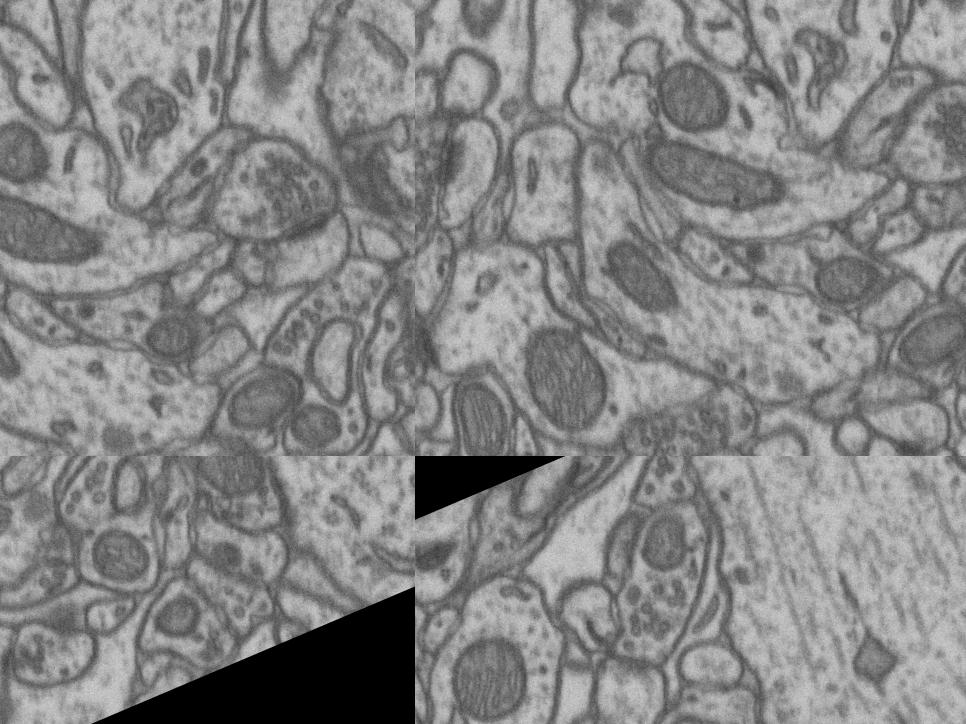mitochondria: (634, 97, 798, 252), (500, 305, 626, 449), (0, 152, 113, 307), (418, 600, 552, 724), (637, 39, 749, 154), (584, 212, 688, 331), (616, 491, 715, 591), (213, 352, 317, 440), (73, 514, 167, 608), (126, 291, 224, 381), (800, 235, 898, 325), (430, 365, 526, 456), (881, 297, 966, 385), (134, 578, 220, 664), (0, 103, 68, 206), (181, 456, 287, 520), (858, 456, 966, 515), (282, 392, 345, 456), (0, 286, 29, 405)
